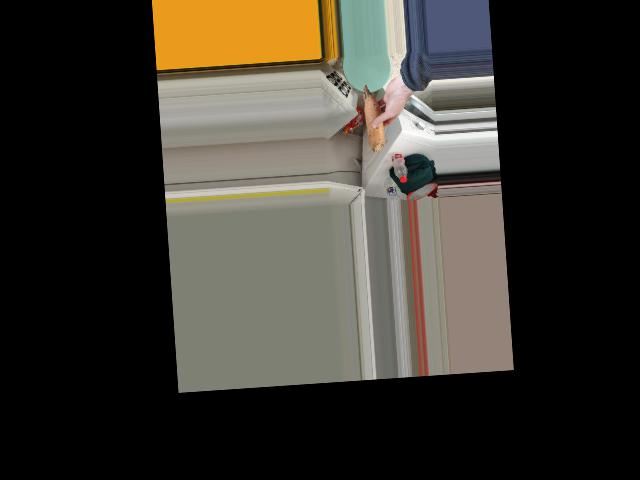sweet_potato: (361, 82, 390, 155)
